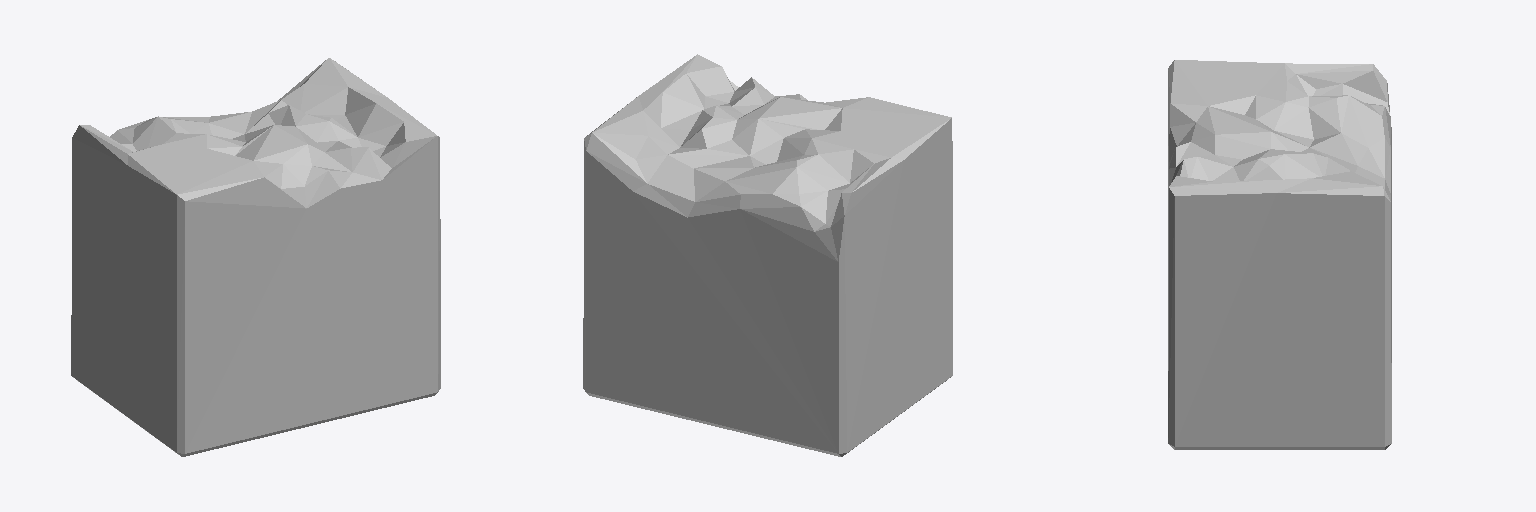
3 views of the same model, side by side, from view 1: azimuth 30°, elevation 25°; view 2: azimuth 150°, elevation 25°; view 3: azimuth 270°, elevation 25° (orthographic).
Visible parts, largest first — view 1: Liquid_Domain; view 2: Liquid_Domain; view 3: Liquid_Domain.
Part boxes in pixels (x1,y1,x2,y2): Liquid_Domain: (71,58,440,456); Liquid_Domain: (583,54,952,456); Liquid_Domain: (1168,60,1391,449).
Bounding box in the file's own units: 16.97 × 16.21 × 12.44.